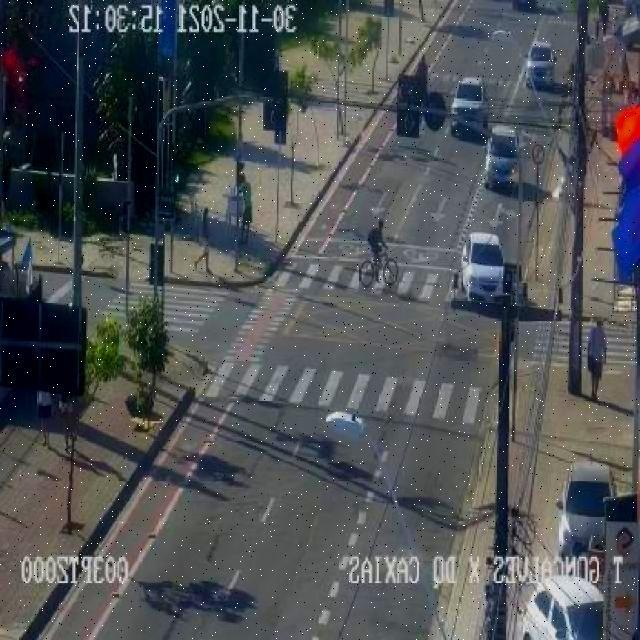Car: (554, 459, 616, 561), (520, 575, 606, 640), (461, 231, 508, 308), (486, 124, 524, 192), (449, 78, 492, 138), (525, 41, 559, 92)
Cycle: (356, 244, 401, 286)
